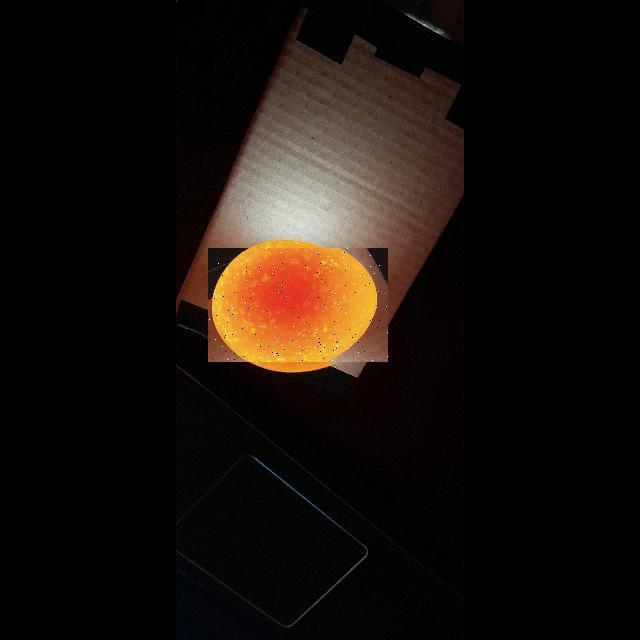Inedible: (214, 237, 381, 378)
